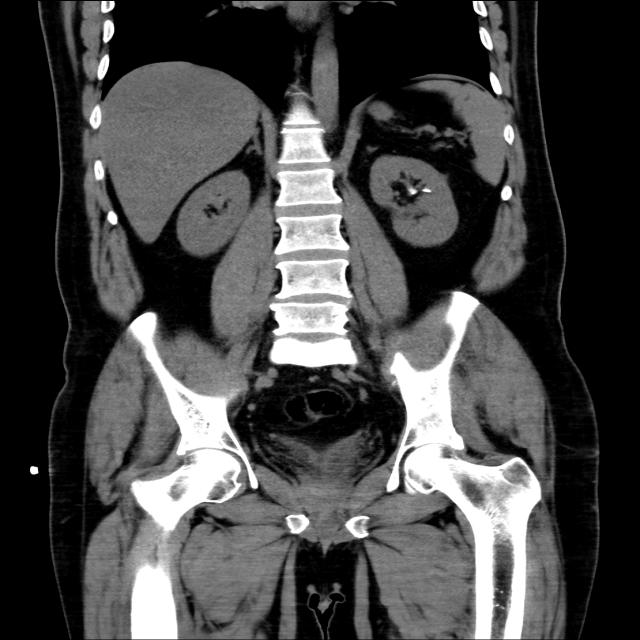kidneystone: (406, 188, 432, 194)
